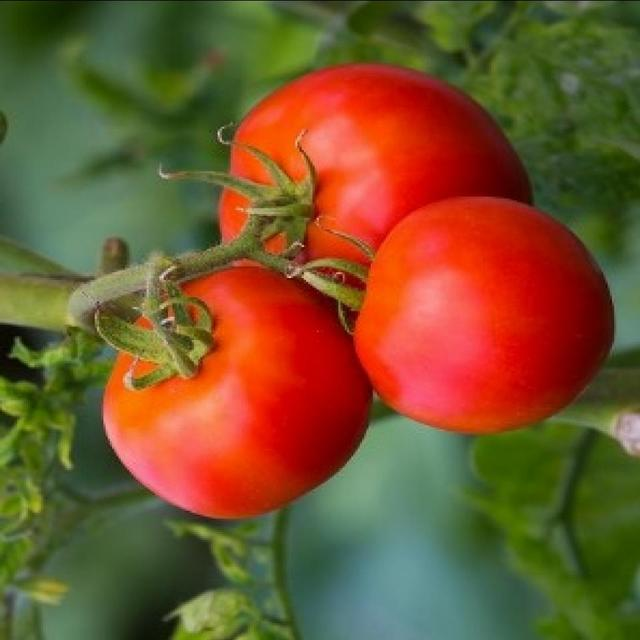Healthy Fruit: (152, 116, 325, 265)
